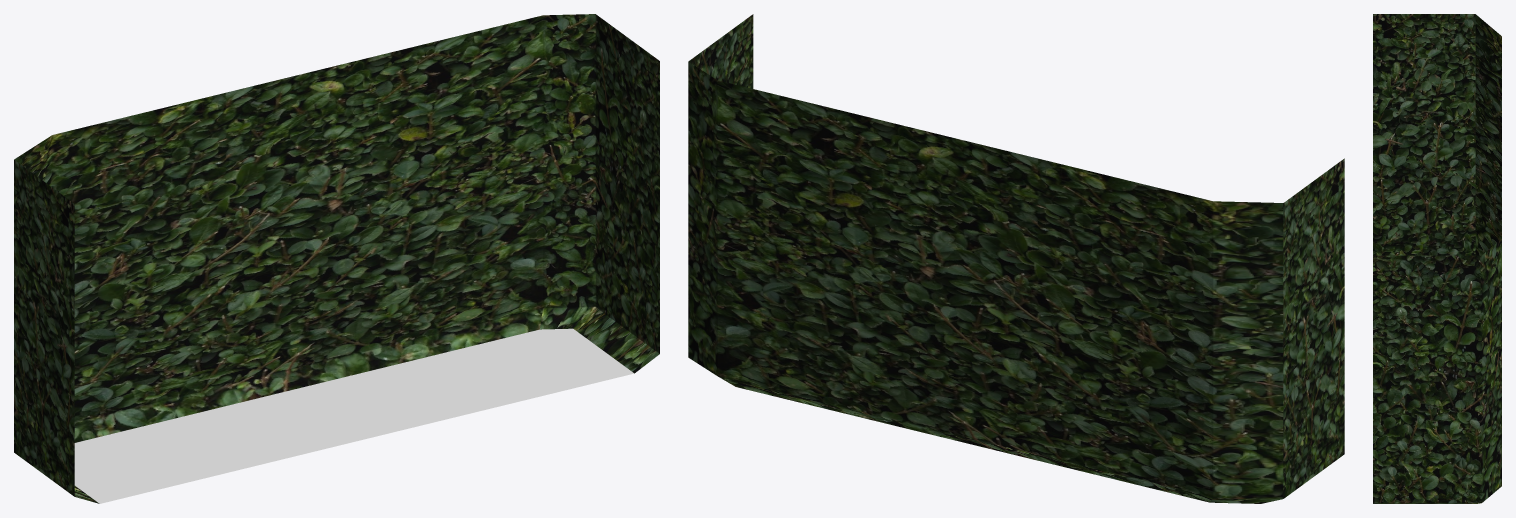
The model's file is grassy_balcony.fbx.
3 renders of one model, left to right at view 1: azimuth 30°, elevation 25°; view 2: azimuth 150°, elevation 25°; view 3: azimuth 270°, elevation 25°, orthographic. The views are drawn at different scales.
Visible parts, largest first — view 1: Plane; view 2: Plane; view 3: Plane.
Boxes of the visible parts, left/top/right/bottom form: Plane: left=14, top=14, right=659, bottom=503; Plane: left=688, top=14, right=1344, bottom=503; Plane: left=1373, top=14, right=1501, bottom=503.
Bounding box in the file's own units: 400 × 200 × 90.09.
